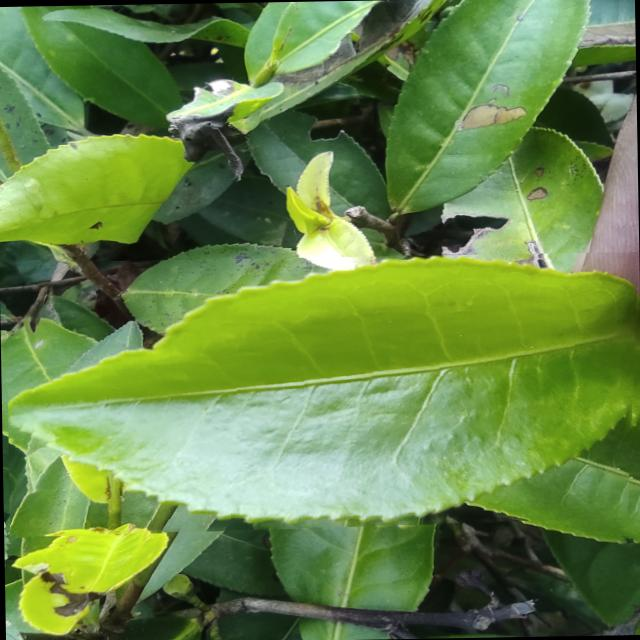Category C(4-7 days): (5, 250, 640, 536)
